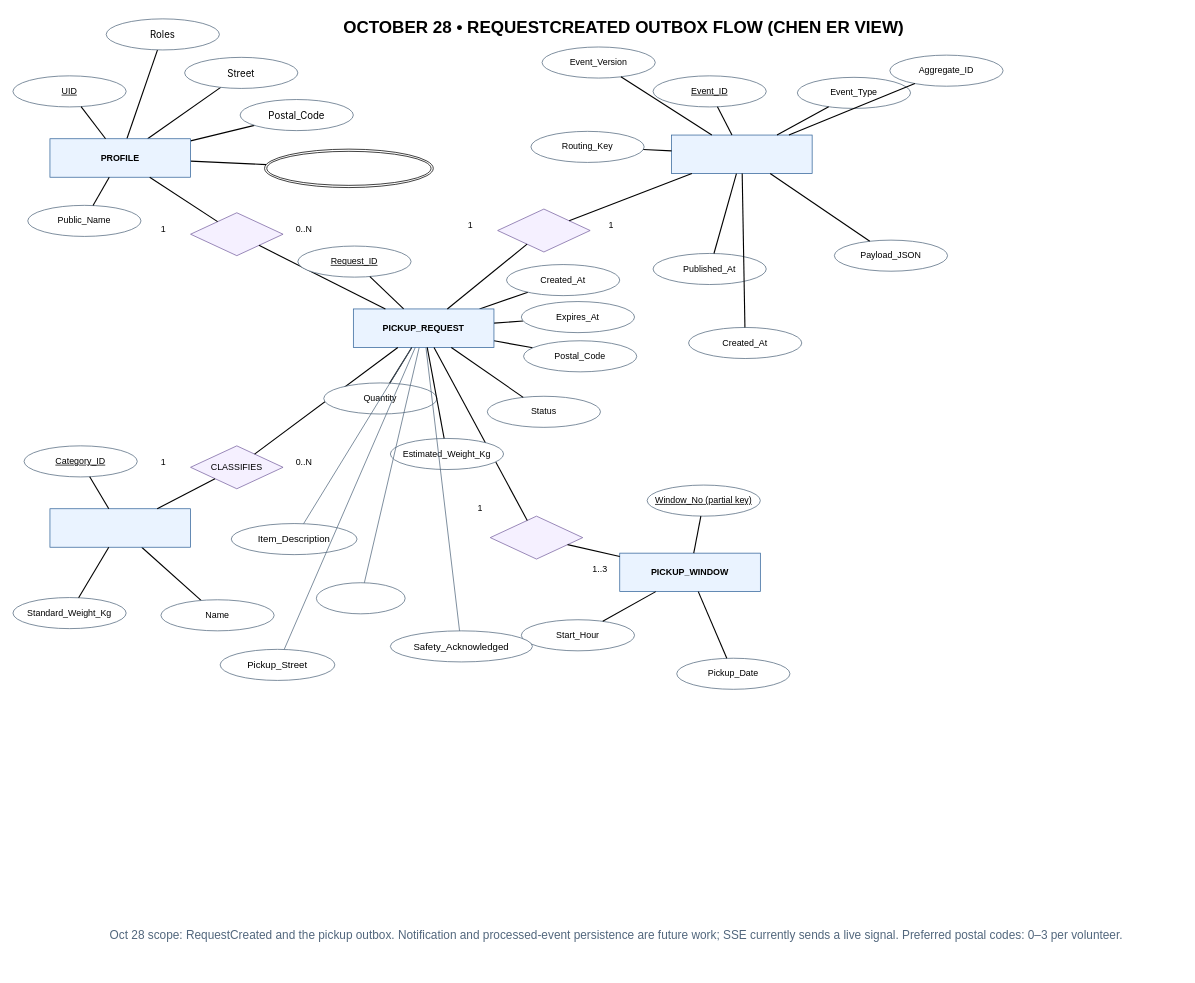
The diagram is 1195 pixels wide and 983 high, and some of its shapes have lost their labels. Each missing label, with the centre of its shape:
"CREATES" goes at (x=236, y=234).
"EVENT_OUTBOX" goes at (x=741, y=154).
"GENERATES" goes at (x=543, y=230).
"ITEM_CATEGORY" goes at (x=120, y=527).
"Notes" goes at (x=360, y=598).
"OFFERS" goes at (x=536, y=537).
"Preferred_Postal_Codes (0..3)" goes at (x=348, y=168).
